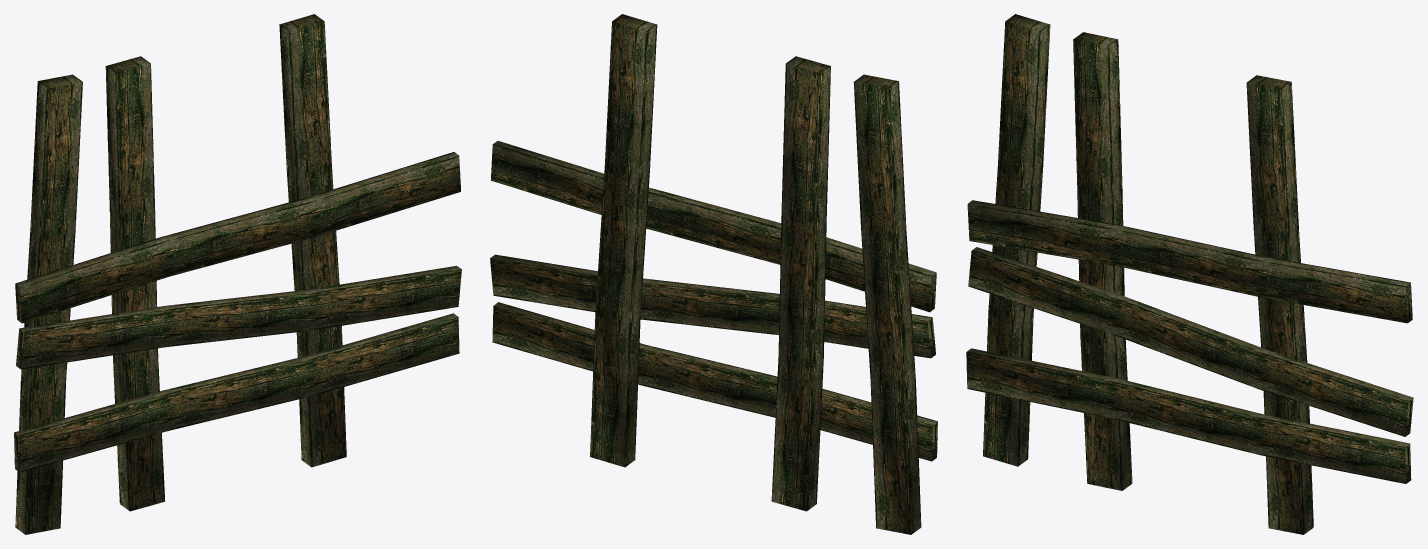
File: wooden_wall.obj
3 renders of one model, left to right at view 1: azimuth 30°, elevation 25°; view 2: azimuth 150°, elevation 25°; view 3: azimuth 330°, elevation 25°, orthographic.
Parts seen in each view (by area): view 1: Box007; view 2: Box007; view 3: Box007.
Part boxes in pixels (x1=…): Box007: x1=14, y1=14, x2=461, y2=534; Box007: x1=490, y1=14, x2=937, y2=534; Box007: x1=966, y1=14, x2=1413, y2=534.
Size of the model in its own units: 3223 by 3083 by 192.
